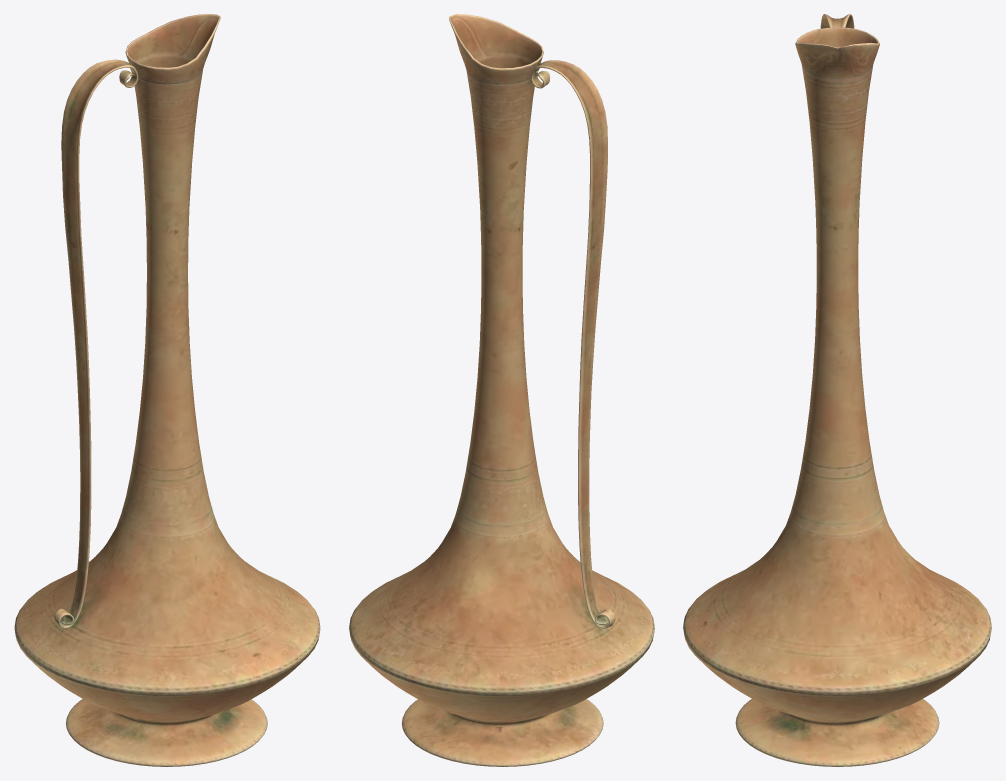
Rendered from m_brass_vase_02.glb.
The picture shows the model from 3 angles, left to right: view 1: azimuth 30°, elevation 25°; view 2: azimuth 150°, elevation 25°; view 3: azimuth 270°, elevation 25°; orthographic projection.
Visible parts, largest first — view 1: brass_vase_02; view 2: brass_vase_02; view 3: brass_vase_02.
Part boxes in pixels (x1,y1,x2,y2): brass_vase_02: (14, 14, 320, 766); brass_vase_02: (349, 14, 654, 766); brass_vase_02: (683, 14, 991, 766).
Bounding box in the file's own units: 0.2103 × 0.5286 × 0.2103.
1 material, 1 textured.
